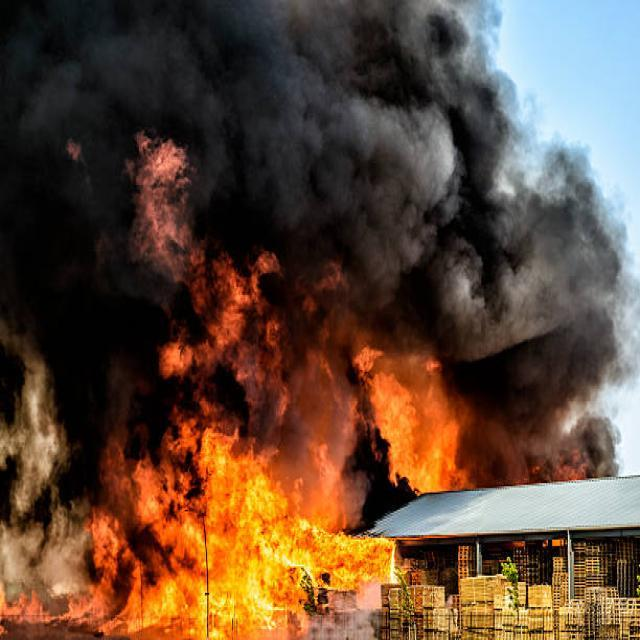Fire: (192, 262, 320, 640), (108, 446, 204, 625), (350, 348, 460, 492), (129, 140, 191, 270), (320, 526, 393, 583)
Smoke: (191, 0, 550, 285), (328, 218, 629, 401), (0, 0, 195, 225), (0, 226, 168, 472), (452, 379, 640, 480)
